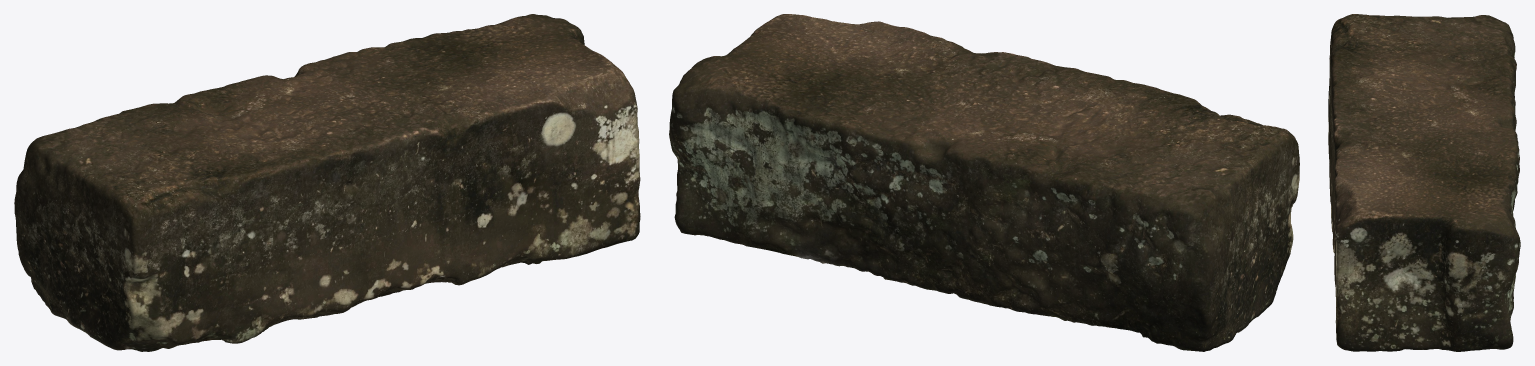
The model's file is 13_MysonSanctuaryD_BiaKi_final.glb.
3 renders of one model, left to right at view 1: azimuth 30°, elevation 25°; view 2: azimuth 150°, elevation 25°; view 3: azimuth 270°, elevation 25°, orthographic. The views are drawn at different scales.
Size of the model in its own units: 1.29 by 0.3776 by 0.4756.
1 material, 1 textured.
